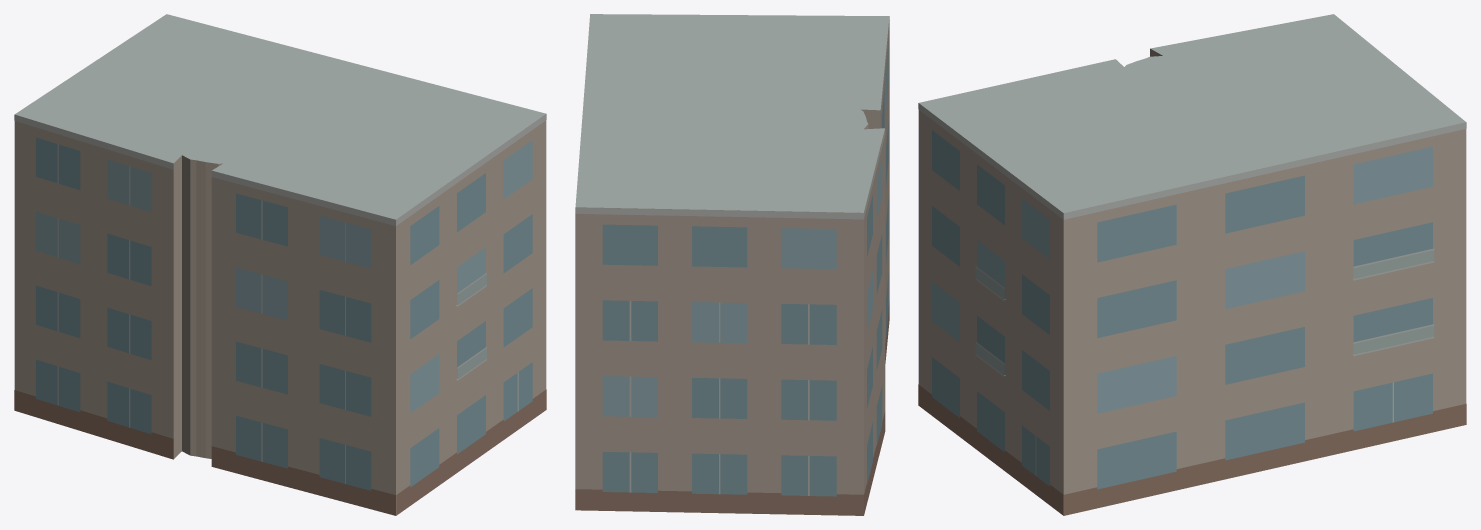
File: survey-upis-32892467.glb
The picture shows the model from 3 angles, left to right: view 1: azimuth 30°, elevation 25°; view 2: azimuth 150°, elevation 25°; view 3: azimuth 270°, elevation 25°; orthographic projection. The views are drawn at different scales.
Visible parts, largest first — view 1: survey-upis-32892467.tmp; view 2: survey-upis-32892467.tmp; view 3: survey-upis-32892467.tmp.
Part boxes in pixels (left/top/right/bottom): survey-upis-32892467.tmp: left=14, top=14, right=546, bottom=515; survey-upis-32892467.tmp: left=575, top=14, right=889, bottom=515; survey-upis-32892467.tmp: left=918, top=14, right=1466, bottom=515.
Bounding box in the file's own units: 15.97 × 11.3 × 18.55.
